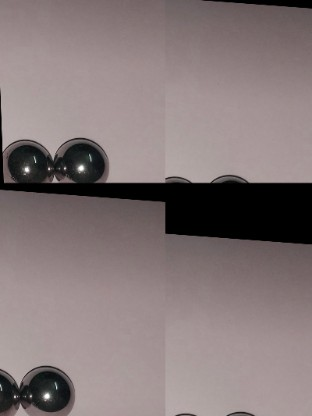ironball: (14, 359, 87, 414), (49, 133, 120, 183), (0, 131, 51, 184)
